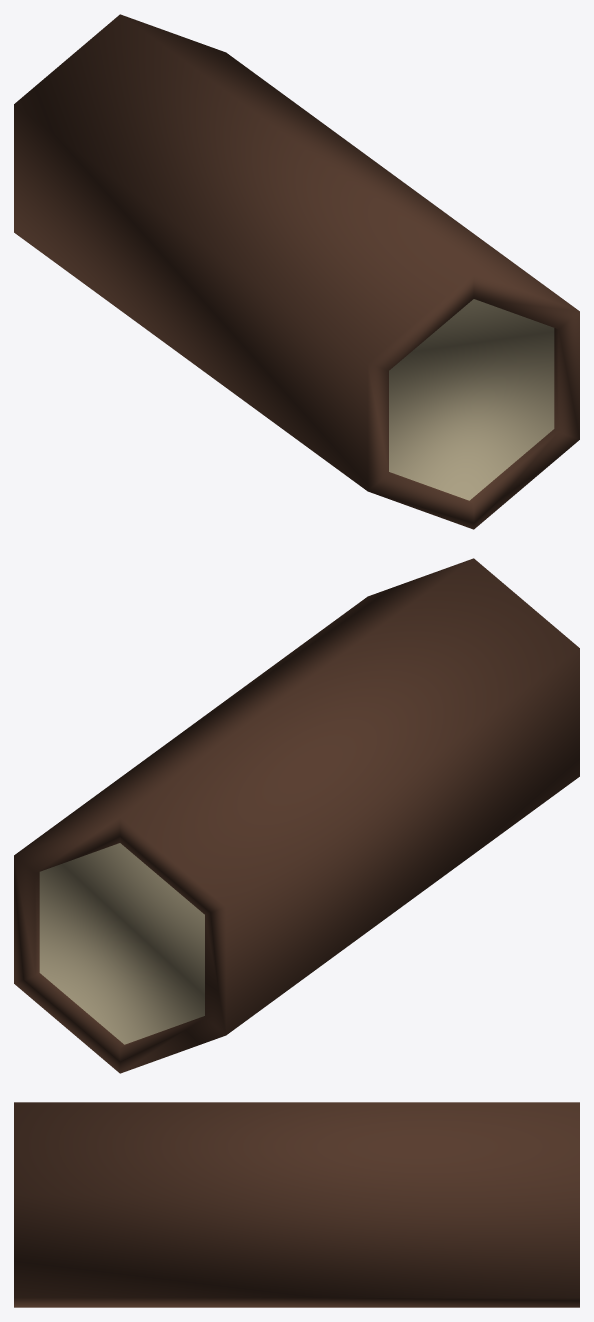
File: RollingWood.gltf
3 views of the same model, one above another, from view 1: azimuth 30°, elevation 25°; view 2: azimuth 150°, elevation 25°; view 3: azimuth 270°, elevation 25° (orthographic). The views are drawn at different scales.
Parts seen in each view (by area): view 1: Cylinder; view 2: Cylinder; view 3: Cylinder.
Boxes of the visible parts, bbox=[...] form: Cylinder: bbox=[14, 14, 579, 529]; Cylinder: bbox=[14, 558, 579, 1073]; Cylinder: bbox=[14, 1102, 579, 1307].
Bounding box in the file's own units: 0.6928 × 0.8 × 2.
